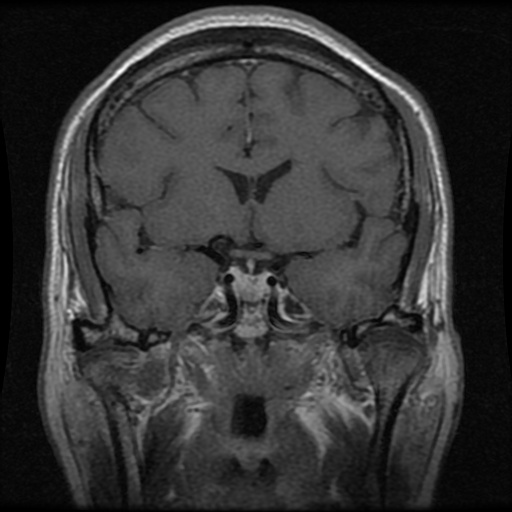pituitary: (234, 274, 268, 300)
